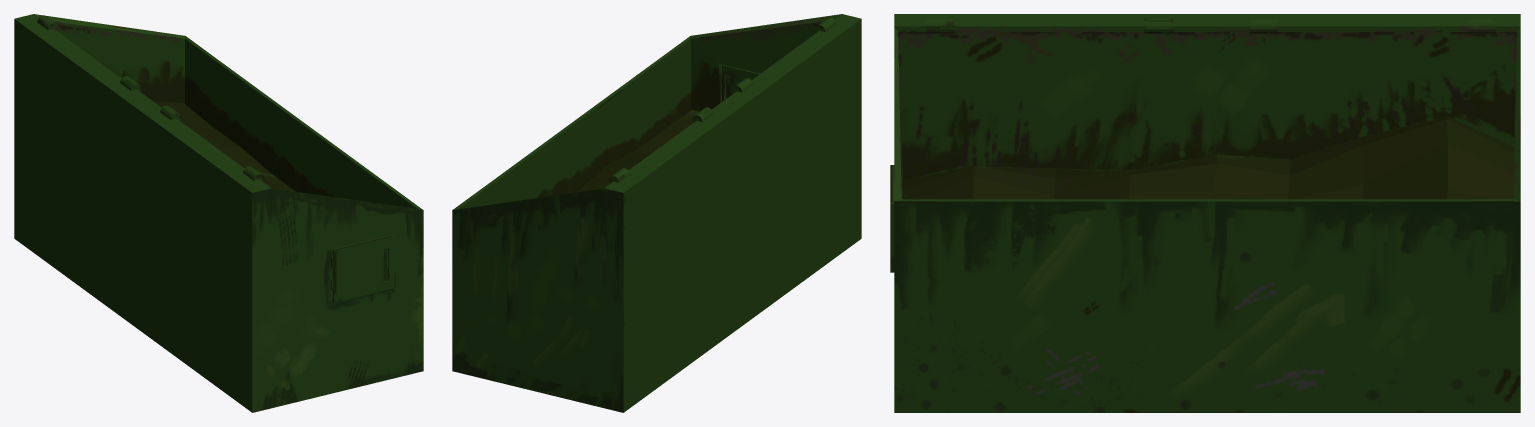
The model's file is Dumpster.fbx.
The picture shows the model from 3 angles, left to right: view 1: azimuth 30°, elevation 25°; view 2: azimuth 150°, elevation 25°; view 3: azimuth 270°, elevation 25°; orthographic projection. The views are drawn at different scales.
Parts seen in each view (by area): view 1: Cube; view 2: Cube; view 3: Cube.
Boxes of the visible parts, x1,y1,x2,y2 form: Cube: (14, 14, 423, 412); Cube: (452, 14, 861, 412); Cube: (890, 14, 1520, 412).
Size of the model in its own units: 78.32 by 98.49 by 190.
Materials: 1 (1 with a texture image).
